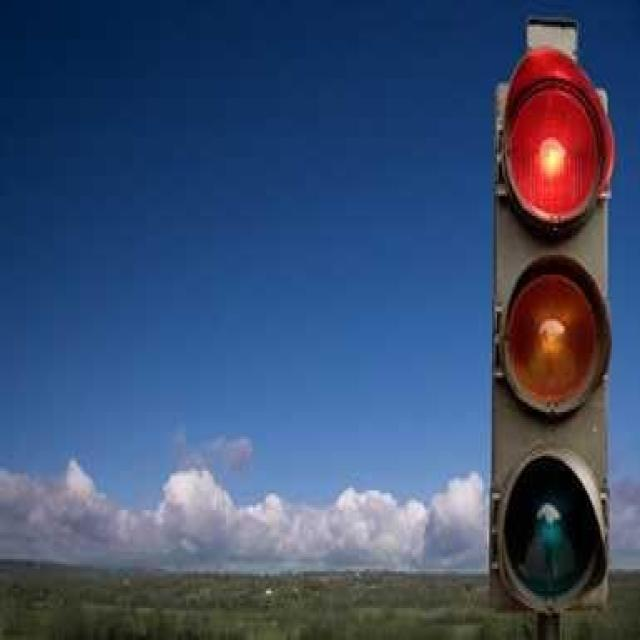Traffic Light -Red-: (476, 17, 630, 625)
